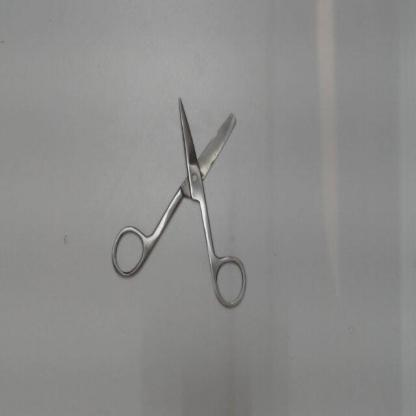Dressing Scissors: (100, 76, 254, 316)
